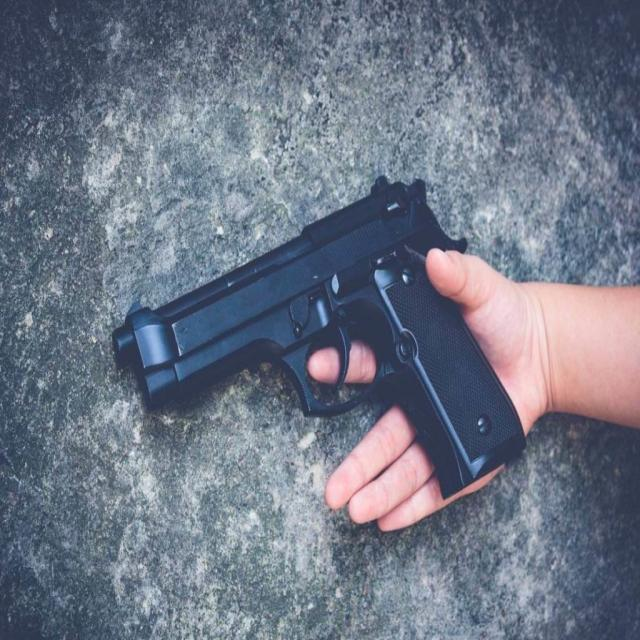HandGun: (111, 181, 527, 502)
